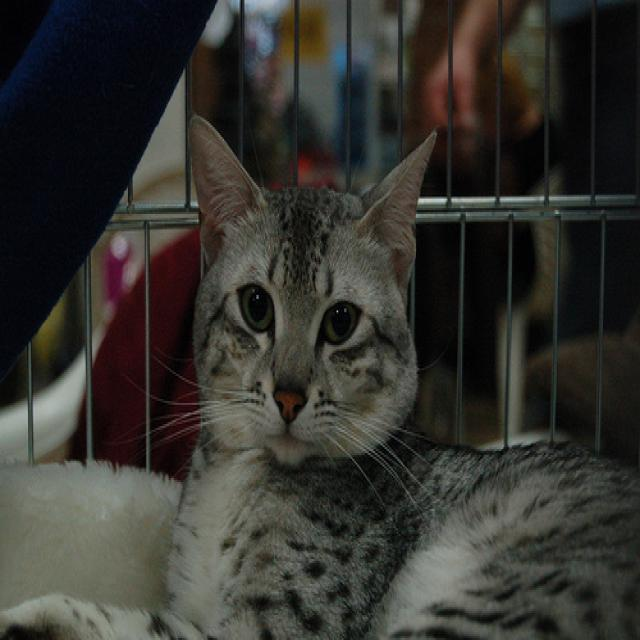Egyptian_Mau: (181, 110, 439, 470)
